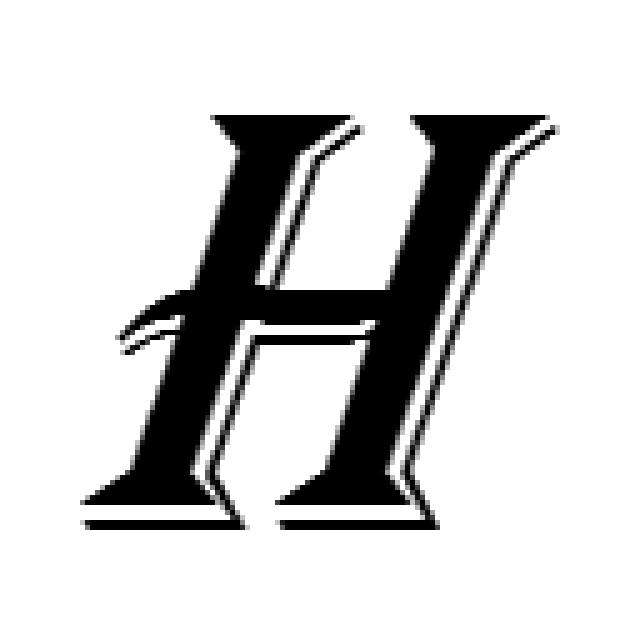H: (90, 101, 552, 534)
